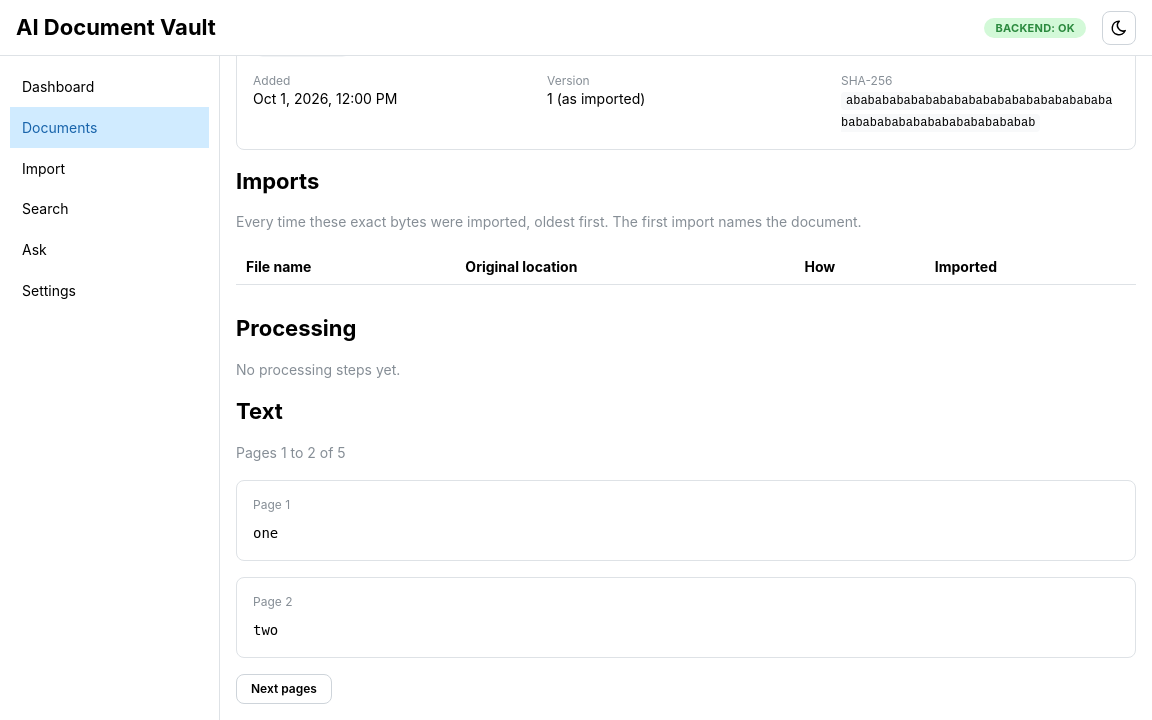
text view › pages forward and back through the windows the backend gives
(page scrolled)
expect the text "Pages 1 to 2 of 5" is shown: met, box [236,444,346,461]
expect the button "Previous pages" is not shown: met
Click the button "Next pages": (284, 689) [236,674,332,704]
(page scrolled)
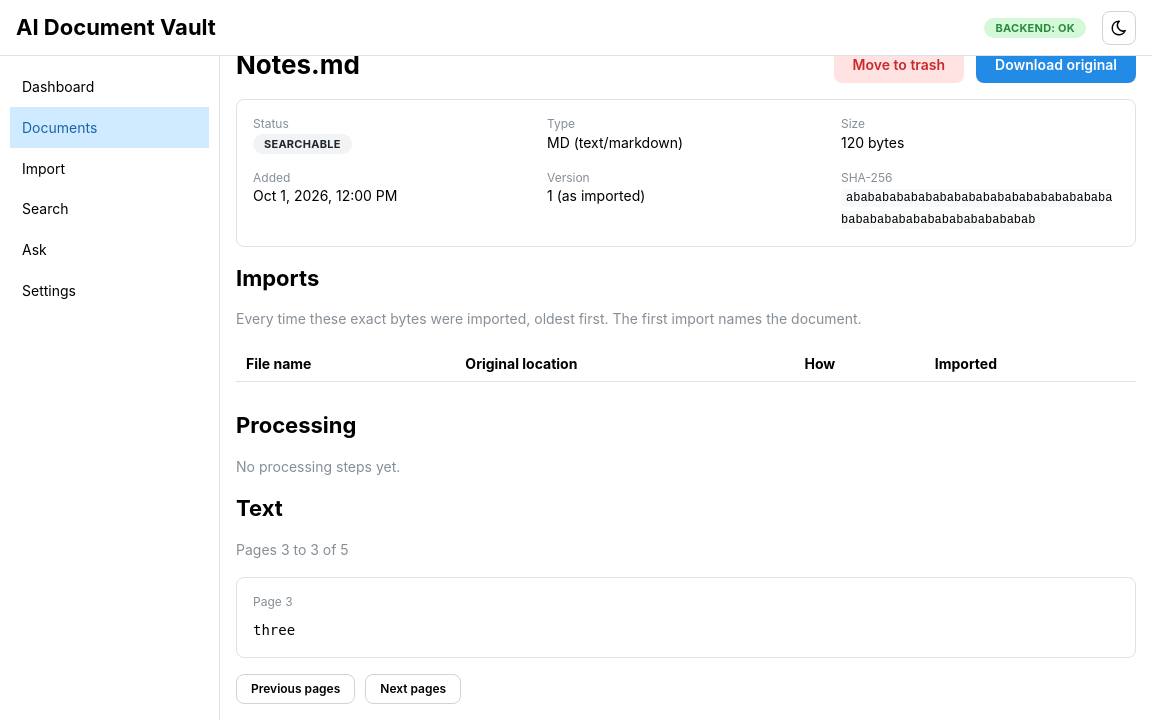
expect the text "Pages 3 to 3 of 5" is shown: met, box [236,541,349,558]
Click the button "Next pages": (413, 689) [365,674,461,704]
(page scrolled)
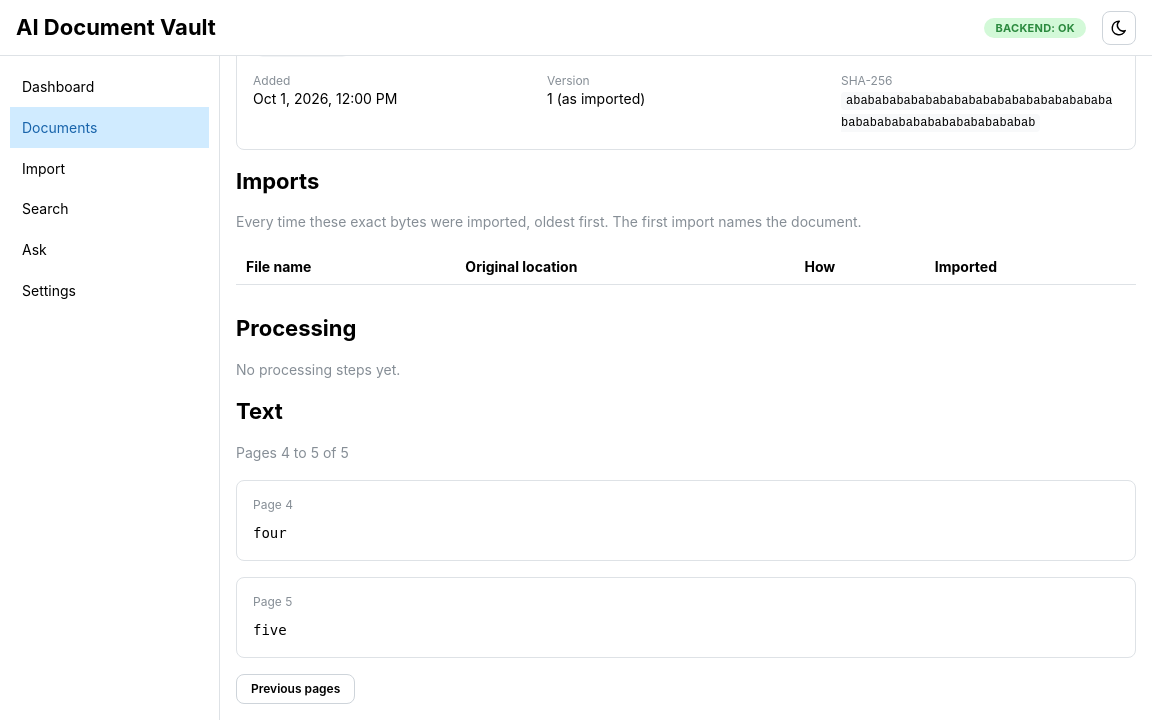
expect the text "Pages 4 to 5 of 5" is shown: met, box [236,444,349,461]
expect the button "Next pages" is gone: met
Click the button "Previous pages": (296, 689) [236,674,355,704]
(page scrolled)
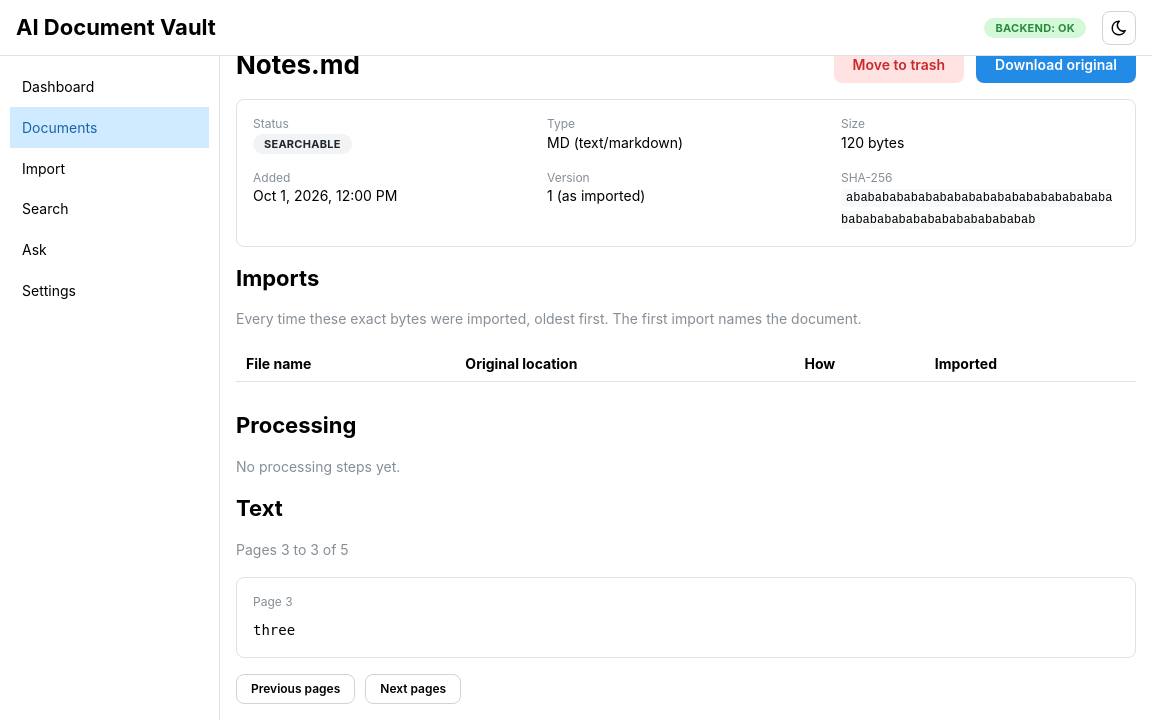
expect the text "Pages 3 to 3 of 5" is shown: met, box [236,541,349,558]
Click the button "Previous pages": (296, 689) [236,674,355,704]
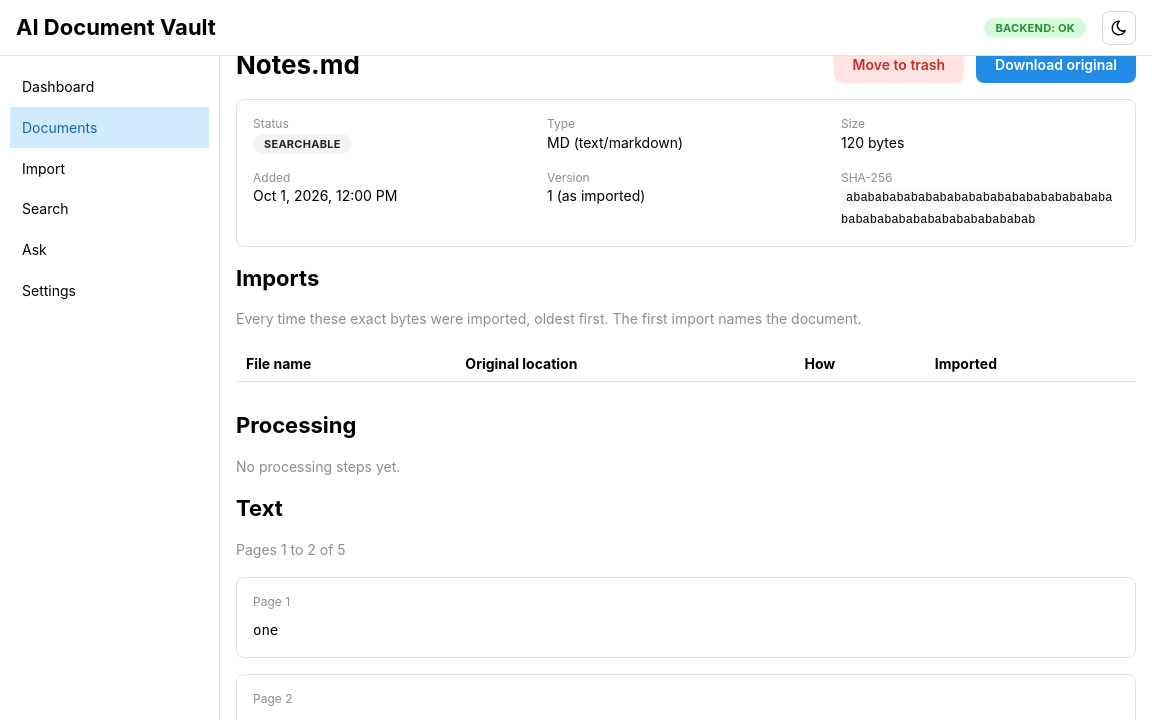
expect the text "Pages 1 to 2 of 5" is shown: met, box [236,541,346,558]
